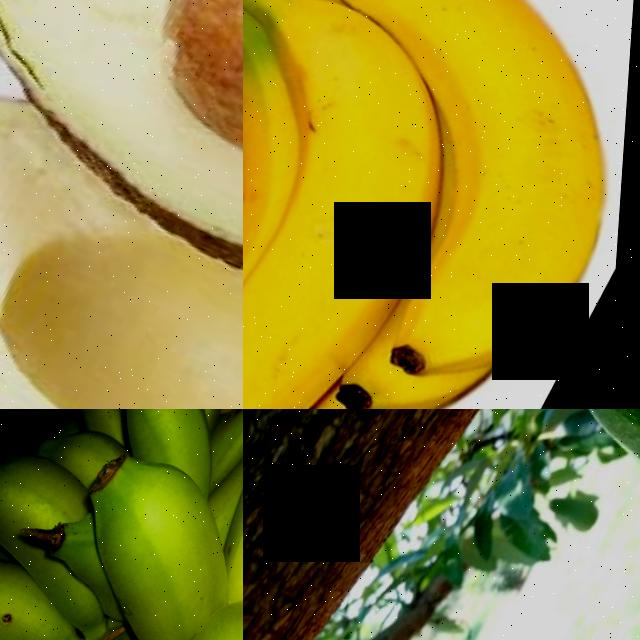avocado: (0, 0, 243, 398), (0, 66, 243, 409), (518, 409, 640, 576)
banana: (243, 0, 640, 409), (0, 409, 243, 640)
